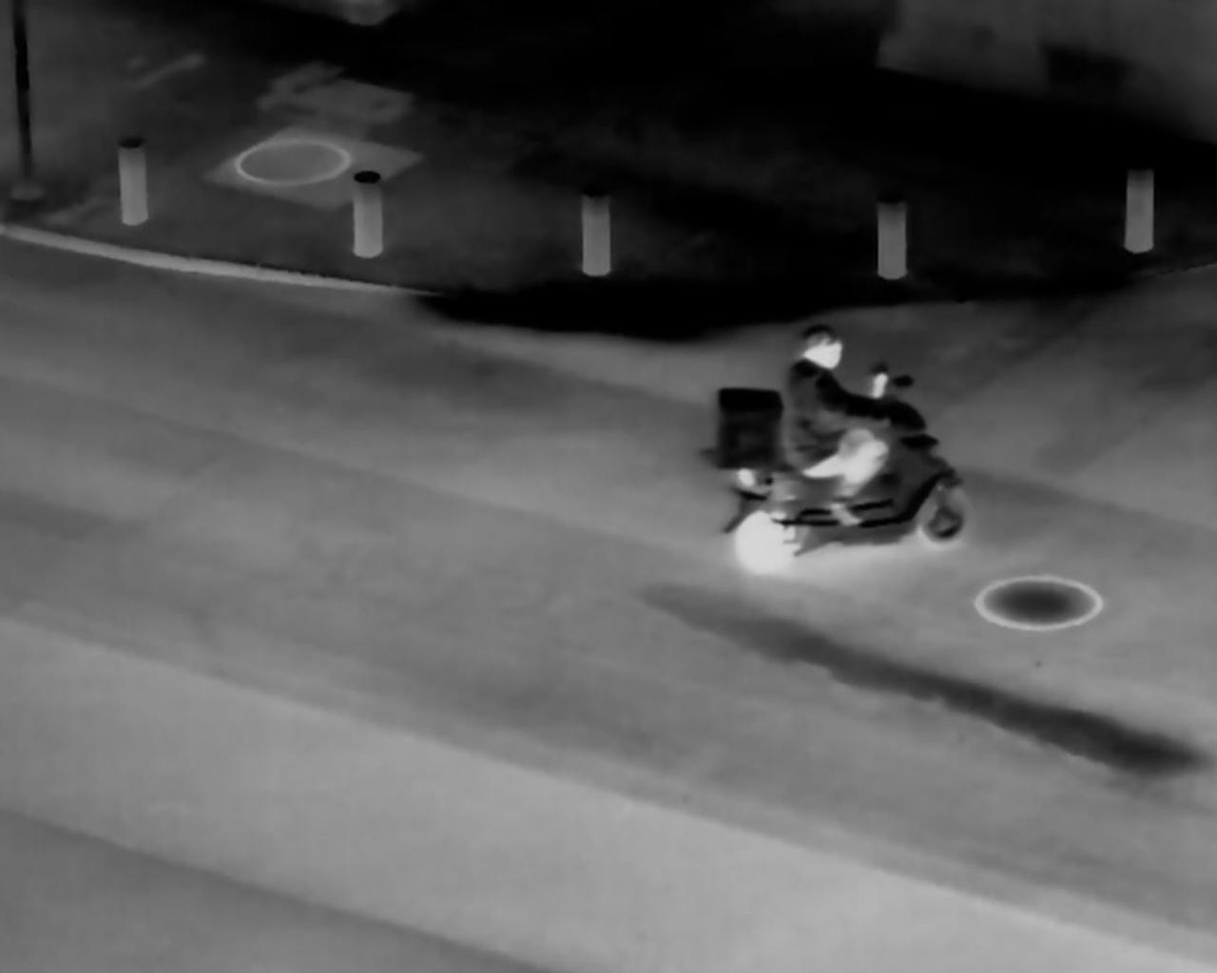person: (775, 309, 904, 533)
